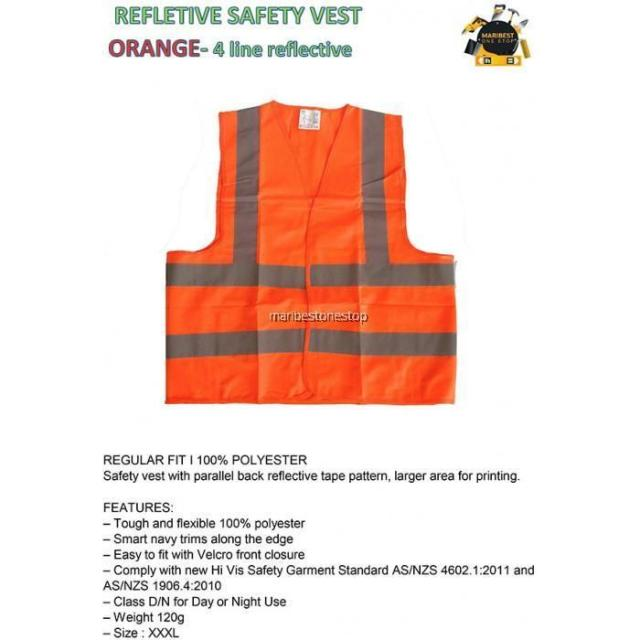Vest: (164, 100, 458, 408)
